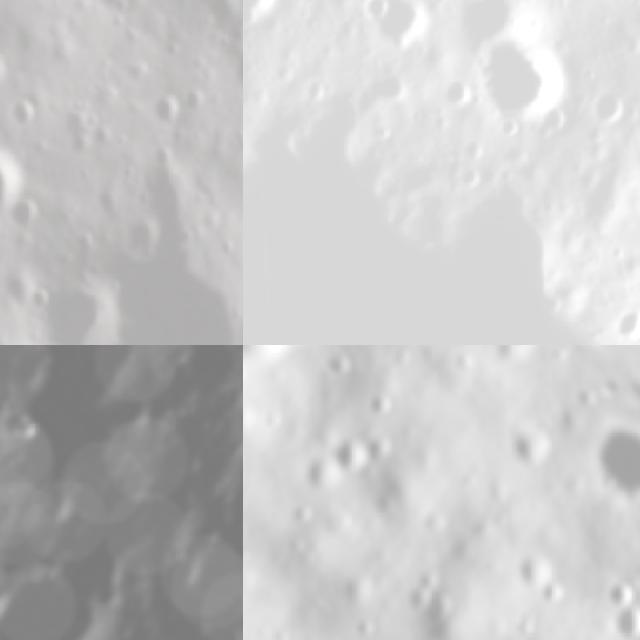crater: (478, 21, 583, 125), (0, 560, 112, 640), (387, 551, 481, 640), (503, 540, 571, 602), (500, 414, 566, 477), (167, 345, 243, 399), (452, 0, 529, 48), (322, 426, 382, 486), (40, 477, 89, 535), (373, 0, 436, 43), (591, 564, 640, 618), (0, 140, 31, 217), (9, 346, 60, 392), (594, 77, 640, 126), (362, 384, 409, 429), (534, 569, 578, 614), (317, 345, 363, 387), (603, 596, 640, 640), (489, 345, 560, 367), (6, 191, 43, 232), (150, 92, 184, 131), (189, 516, 223, 554), (243, 0, 295, 23), (440, 77, 475, 111), (9, 96, 42, 130), (614, 302, 640, 345), (369, 74, 404, 100), (232, 44, 243, 121), (29, 285, 56, 313), (456, 166, 483, 191), (458, 137, 484, 160), (286, 345, 353, 353), (357, 0, 388, 17), (620, 0, 640, 26), (0, 52, 11, 94), (408, 106, 431, 126), (612, 242, 627, 260)
